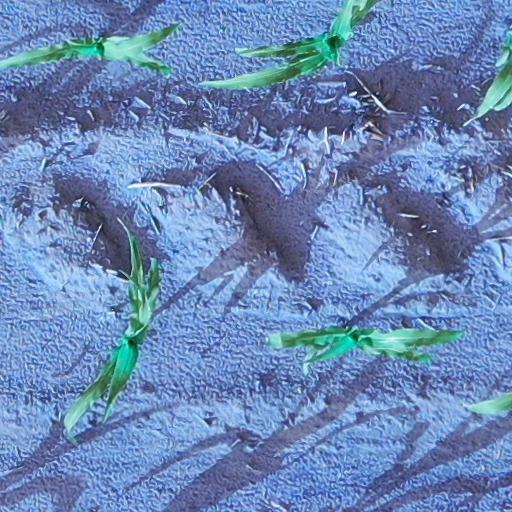planta: (64, 235, 162, 429), (268, 325, 463, 362)
